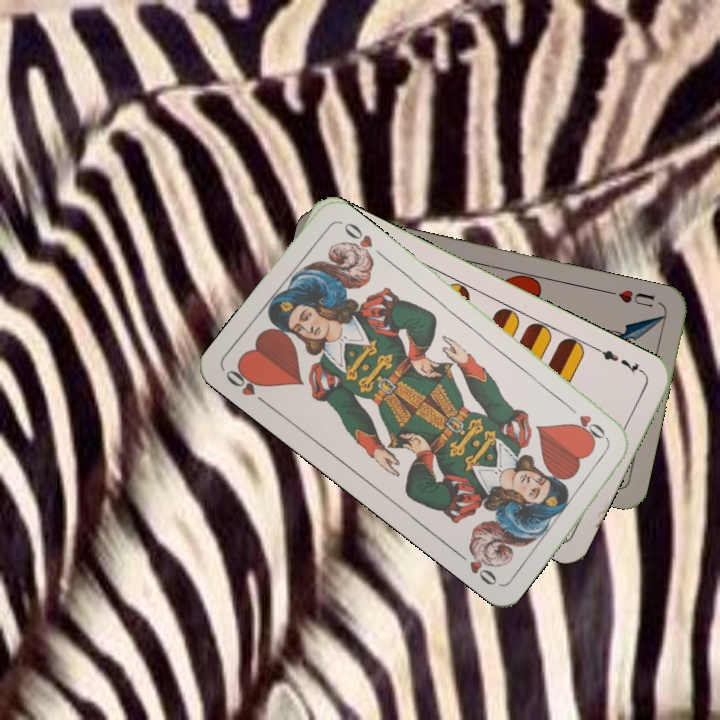E7: (592, 343, 647, 377)
HO: (221, 363, 271, 408), (562, 400, 611, 443)
HU: (604, 285, 658, 310)
